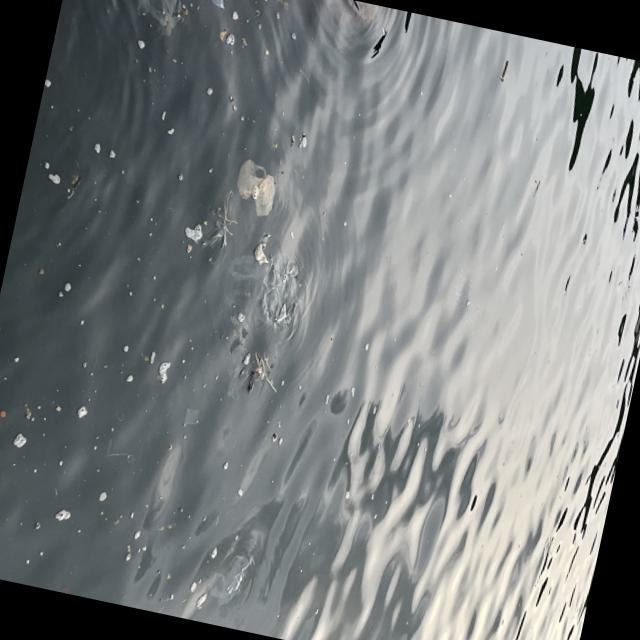plastic bag: (235, 158, 277, 218)
